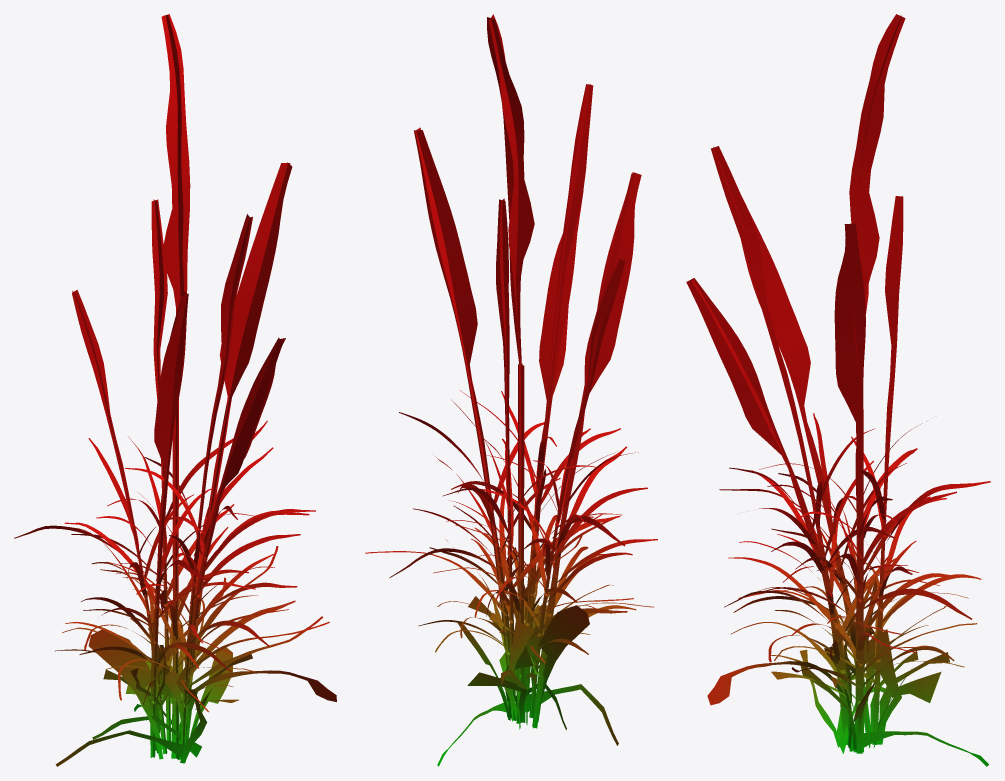
File: slBjG_Var2_LOD0.fbx
3 renders of one model, left to right at view 1: azimuth 30°, elevation 25°; view 2: azimuth 150°, elevation 25°; view 3: azimuth 270°, elevation 25°, orthographic. The views are drawn at different scales.
Parts seen in each view (by area): view 1: _e560_Var2_LOD0; view 2: _e560_Var2_LOD0; view 3: _e560_Var2_LOD0.
Part boxes in pixels (x1,y1,x2,y2): _e560_Var2_LOD0: (14,14,336,766); _e560_Var2_LOD0: (365,14,657,766); _e560_Var2_LOD0: (686,14,990,766).
Size of the model in its own units: 21.98 by 58.3 by 21.52.
